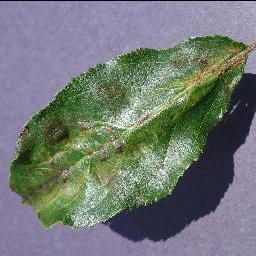apple healthy: (7, 30, 255, 231)
